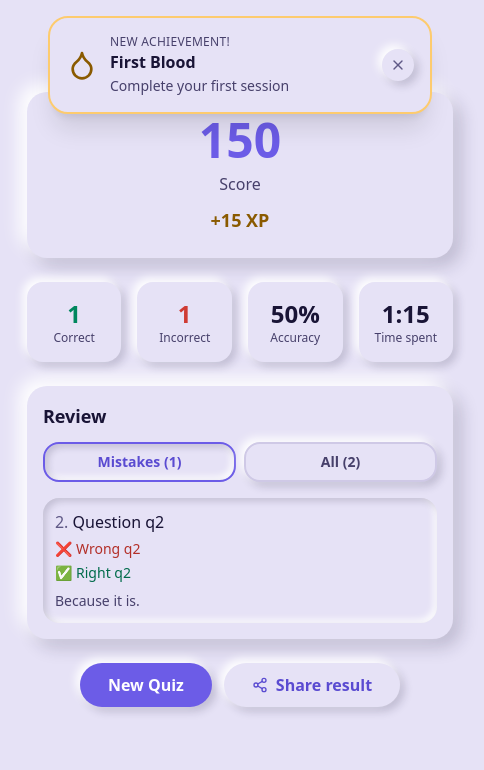
ResultsScreen › shares the pre-rendered card and confirms it
Click the button "Share result" at (312, 685), box x1=224 y1=663 x2=400 y2=707
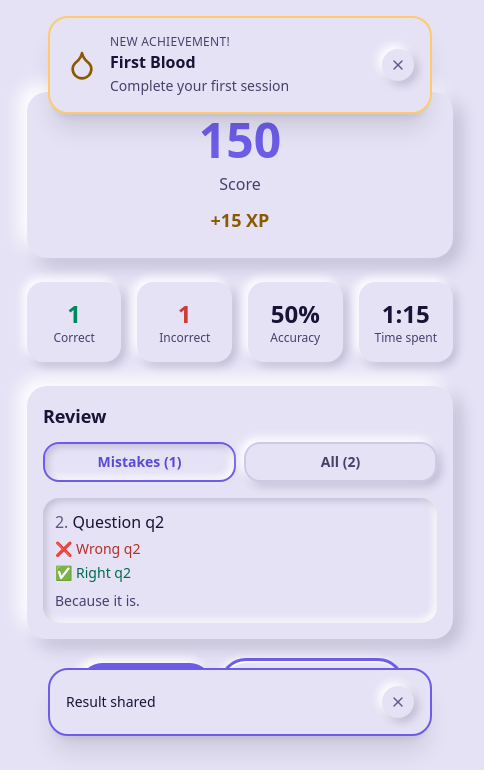
expect the text "Result shared" is shown: met, box x1=66 y1=692 x2=156 y2=711
